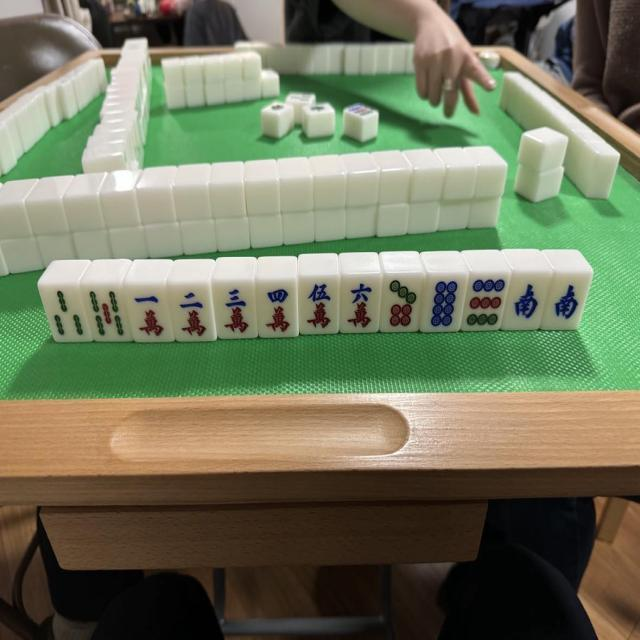hws: (546, 276, 582, 328), (510, 276, 545, 327)
sb3: (52, 288, 87, 340)
sb5: (89, 288, 128, 339)
sc1: (132, 290, 168, 340)
sc2: (174, 288, 209, 340)
sc3: (218, 284, 255, 338)
sc4: (259, 283, 297, 338)
sc5: (301, 278, 336, 331)
sc6: (342, 275, 380, 331)
sd7: (382, 278, 421, 332)
sd8: (426, 278, 462, 331)
sd9: (466, 278, 508, 330)
